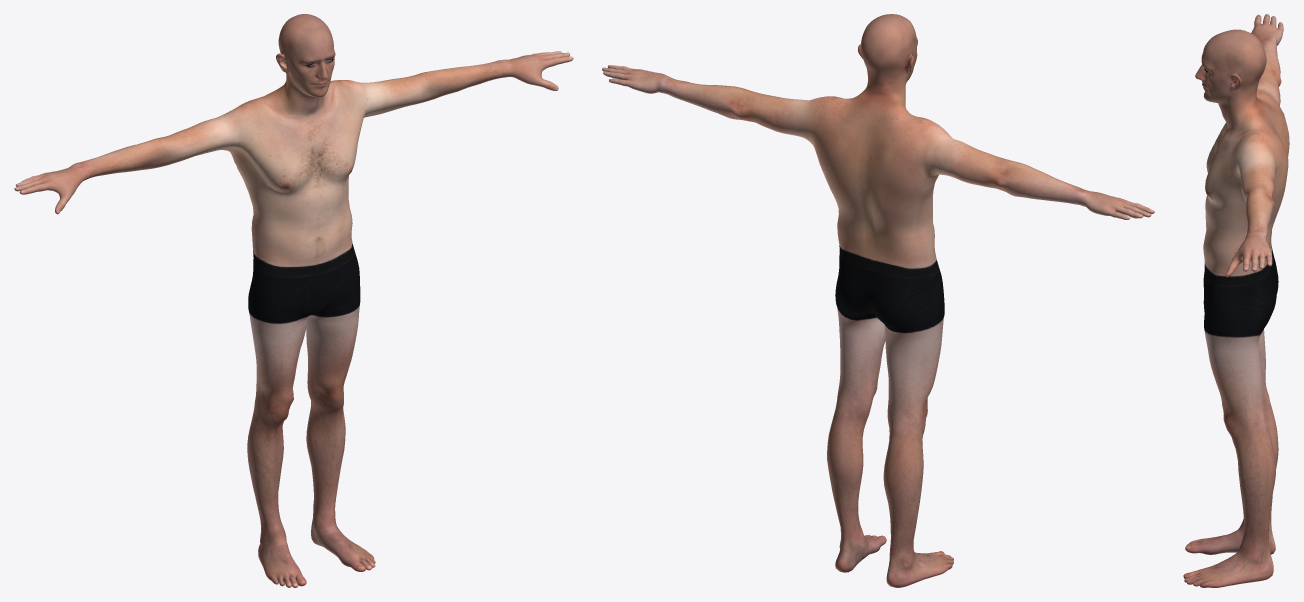
File: WhiteMale1.obj
The picture shows the model from 3 angles, left to right: view 1: azimuth 30°, elevation 25°; view 2: azimuth 150°, elevation 25°; view 3: azimuth 270°, elevation 25°; orthographic projection. The views are drawn at different scales.
Parts seen in each view (by area): view 1: Body; view 2: Body; view 3: Body.
Boxes of the visible parts, x1=… form: Body: x1=14, y1=14, x2=573, y2=587; Body: x1=602, y1=14, x2=1154, y2=587; Body: x1=1183, y1=14, x2=1289, y2=587.
Size of the model in its own units: 195 by 185 by 33.32.
Materials: 1 (1 with a texture image).
